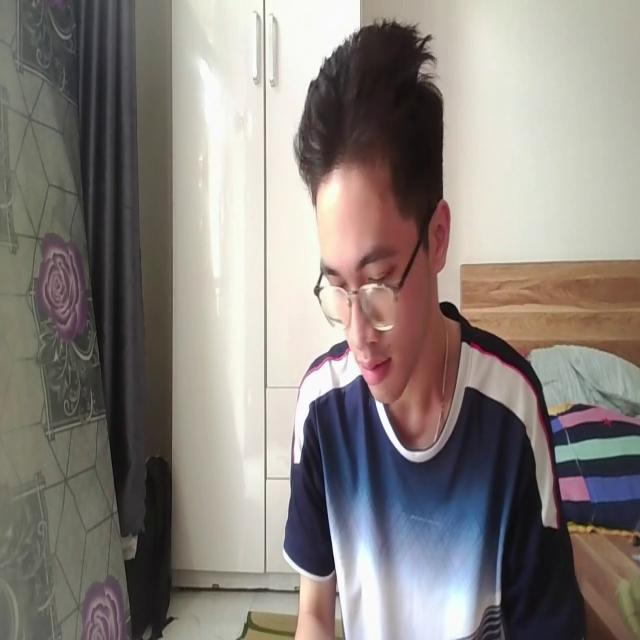student: (277, 10, 579, 640)
